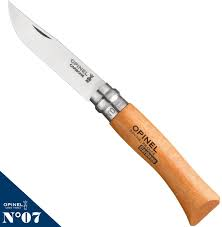knife: (4, 1, 221, 227)
